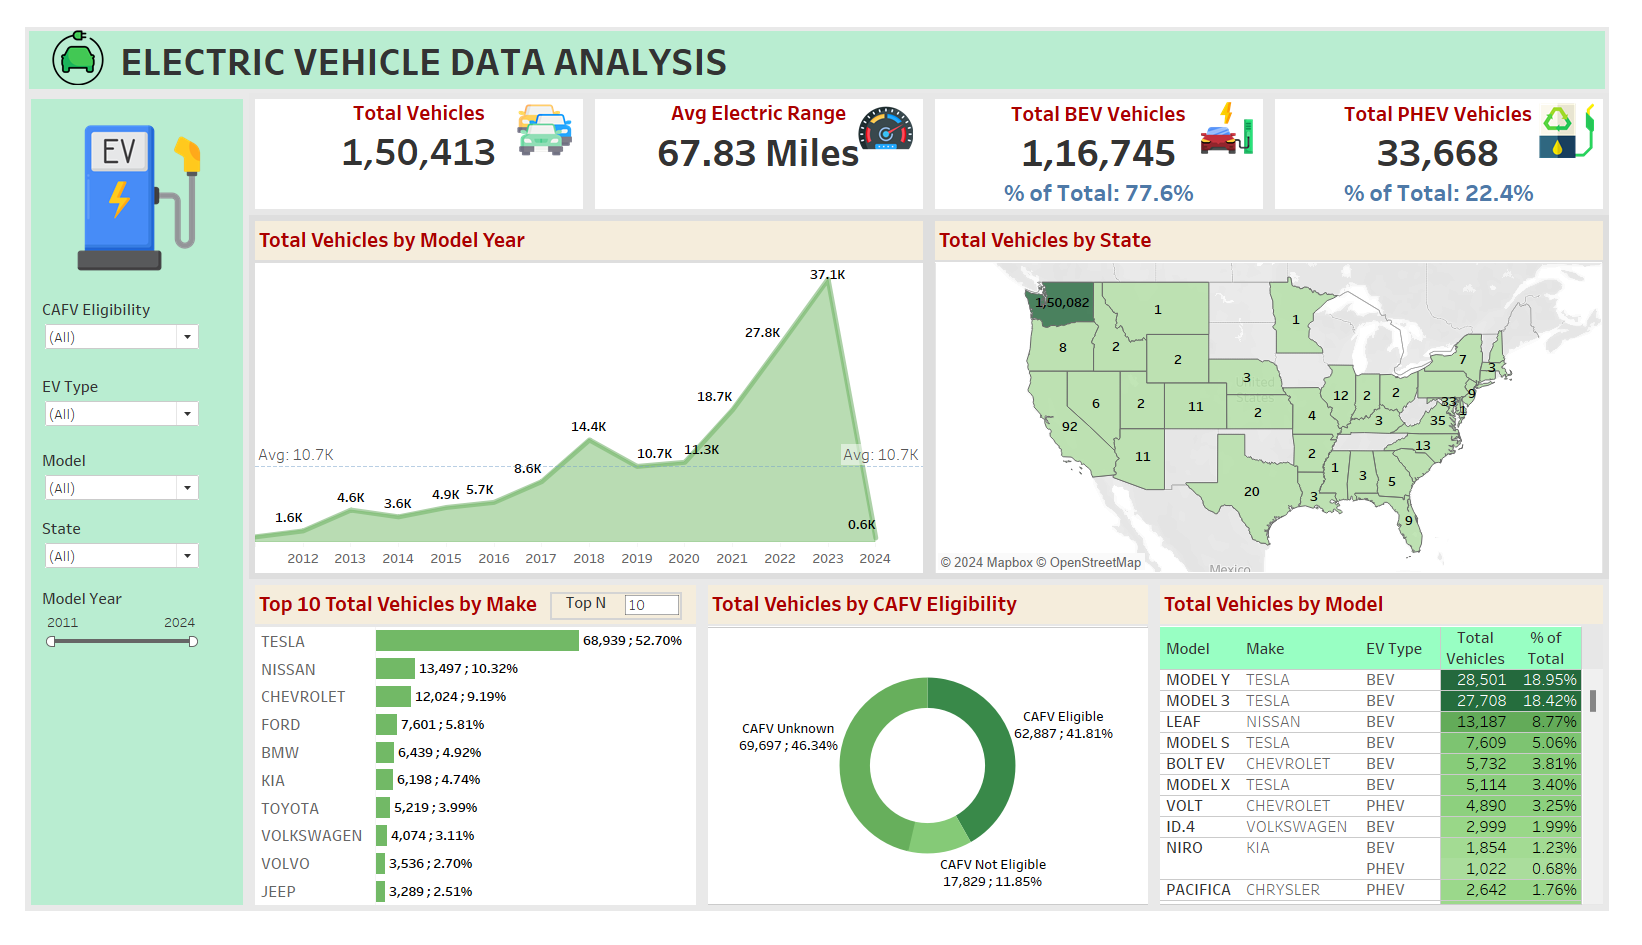

This screenshot's page, from the dashboard's own definition file:
{"tool":"tableau","page":{"name":"Dashboard 1","canvas":[1600,900],"ordinal":0},"visuals":[{"type":"title","box":[8,8,1584,66]},{"type":"image","param":"E:/DATA ANALYTICS/TABLEAU PROJECTS/PROJECT 4/IMAGES/power-supply.png","box":[25,11,71,55]},{"type":"worksheet","title":"Total Vehicles","mark":"Automatic","box":[232,74,340,122]},{"type":"worksheet","title":"Avg Electric Range","mark":"Automatic","box":[572,74,340,122]},{"type":"worksheet","title":"Total BEV Vehicles","mark":"Automatic","box":[912,74,340,122]},{"type":"worksheet","title":"Total PHEV Vehicles","mark":"Automatic","box":[1252,74,340,122]},{"type":"image","param":"E:/DATA ANALYTICS/TABLEAU PROJECTS/PROJECT 4/IMAGES/speed-meter.png","box":[833,81,71,55]},{"type":"image","param":"E:/DATA ANALYTICS/TABLEAU PROJECTS/PROJECT 4/IMAGES/charging-station (1).png","box":[1174,81,71,55]},{"type":"image","param":"E:/DATA ANALYTICS/TABLEAU PROJECTS/PROJECT 4/IMAGES/fleet.png","box":[492,83,71,55]},{"type":"image","param":"E:/DATA ANALYTICS/TABLEAU PROJECTS/PROJECT 4/IMAGES/fuel-station.png","box":[1514,84,71,55]},{"type":"image","param":"E:/DATA ANALYTICS/TABLEAU PROJECTS/PROJECT 4/IMAGES/charging-station.png","box":[45,88,153,182]},{"type":"worksheet","title":"Total Vehicles by Model Year","mark":"Area","rows":["Calculation_1108729984967958528","Calculation_1108729984967958528"],"cols":["Model Year"],"box":[232,196,680,364]},{"type":"worksheet","title":"Total Vehicles by State","mark":"Multipolygon","box":[912,196,680,364]},{"type":"filter","title":"Total Vehicles by Model Year","param":"[federated.1q4fq1o1os7b8t126elss1ep3p5o].[none:Clean Alternative Fuel Vehicle (C","box":[25,280,160,60]},{"type":"filter","title":"Total Vehicles by Model Year","param":"[federated.1q4fq1o1os7b8t126elss1ep3p5o].[none:Electric Vehicle Type:nk]","box":[25,357,160,60]},{"type":"filter","title":"Total Vehicles by Model Year","param":"[federated.1q4fq1o1os7b8t126elss1ep3p5o].[none:Model:nk]","box":[25,431,160,60]},{"type":"filter","title":"Total Vehicles by Model Year","param":"[federated.1q4fq1o1os7b8t126elss1ep3p5o].[none:State:nk]","box":[25,499,160,60]},{"type":"worksheet","title":"Top 10 Total Vehicles by Make","mark":"Automatic","rows":["Make"],"cols":["Calculation_1108729984967958528"],"box":[232,560,453,332]},{"type":"worksheet","title":"Total Vehicles by CAFV Eligibility","mark":"Pie","rows":["Calculation_1108729984998838280","Calculation_1108729984998838280"],"box":[684.9,560,452,332]},{"type":"worksheet","title":"Total Vehicles by Model","mark":"Square","rows":["Model","Make","Electric Vehicle Type"],"box":[1136.8,560,455.2,332]},{"type":"filter","title":"Total Vehicles by Model Year","param":"[federated.1q4fq1o1os7b8t126elss1ep3p5o].[none:Model Year:qk]","box":[25,569,160,60]},{"type":"parameter","param":"[Parameters].[Parameter 1]","box":[533,573,132,28]}]}

Visuals, with their boxes in screenshot pixels (x1, y1, x2, y2), scaled from the page's 1600x900 canvas onto the 1642x945 screenshot:
title: (x1=8, y1=8, x2=1634, y2=78)
image: (x1=26, y1=12, x2=99, y2=69)
"Total Vehicles" worksheet: (x1=238, y1=78, x2=587, y2=206)
"Avg Electric Range" worksheet: (x1=587, y1=78, x2=936, y2=206)
"Total BEV Vehicles" worksheet: (x1=936, y1=78, x2=1285, y2=206)
"Total PHEV Vehicles" worksheet: (x1=1285, y1=78, x2=1634, y2=206)
image: (x1=855, y1=85, x2=928, y2=143)
image: (x1=1205, y1=85, x2=1278, y2=143)
image: (x1=505, y1=87, x2=578, y2=145)
image: (x1=1554, y1=88, x2=1627, y2=146)
image: (x1=46, y1=92, x2=203, y2=284)
"Total Vehicles by Model Year" worksheet (Area marks): (x1=238, y1=206, x2=936, y2=588)
"Total Vehicles by State" worksheet (Multipolygon marks): (x1=936, y1=206, x2=1634, y2=588)
"Total Vehicles by Model Year" filter: (x1=26, y1=294, x2=190, y2=357)
"Total Vehicles by Model Year" filter: (x1=26, y1=375, x2=190, y2=438)
"Total Vehicles by Model Year" filter: (x1=26, y1=453, x2=190, y2=516)
"Total Vehicles by Model Year" filter: (x1=26, y1=524, x2=190, y2=587)
"Top 10 Total Vehicles by Make" worksheet: (x1=238, y1=588, x2=703, y2=937)
"Total Vehicles by CAFV Eligibility" worksheet (Pie marks): (x1=703, y1=588, x2=1167, y2=937)
"Total Vehicles by Model" worksheet (Square marks): (x1=1167, y1=588, x2=1634, y2=937)
"Total Vehicles by Model Year" filter: (x1=26, y1=597, x2=190, y2=660)
parameter: (x1=547, y1=602, x2=682, y2=631)
